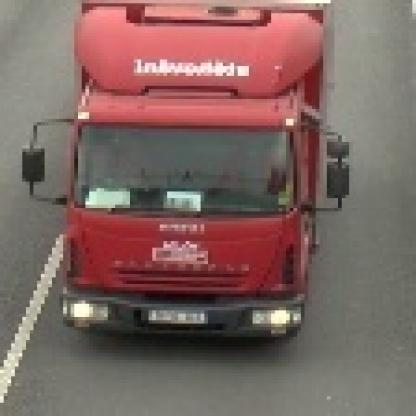truck: (20, 1, 350, 341)
